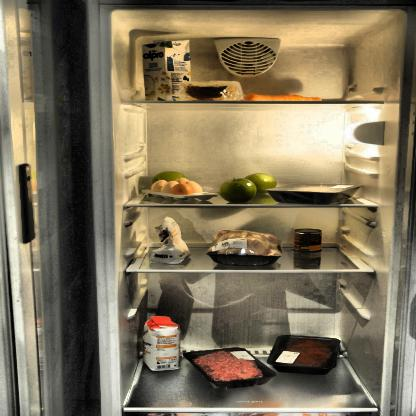apple: (221, 173, 278, 204), (146, 172, 193, 182)
beef: (277, 336, 336, 372)
carrot: (242, 94, 323, 103)
chicken: (204, 228, 280, 262)
corn: (292, 226, 326, 252)
eggs: (151, 179, 200, 199)
ground_beef: (192, 347, 272, 386)
milk: (142, 38, 194, 103)
